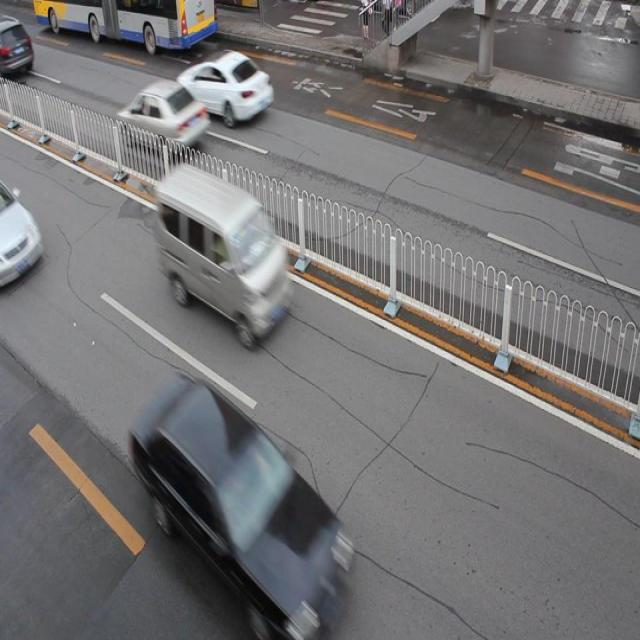car: (134, 378, 347, 633), (178, 49, 274, 126), (118, 78, 210, 154), (1, 183, 43, 289), (1, 15, 34, 81)
truck: (156, 166, 291, 339)
van: (34, 1, 217, 46)
